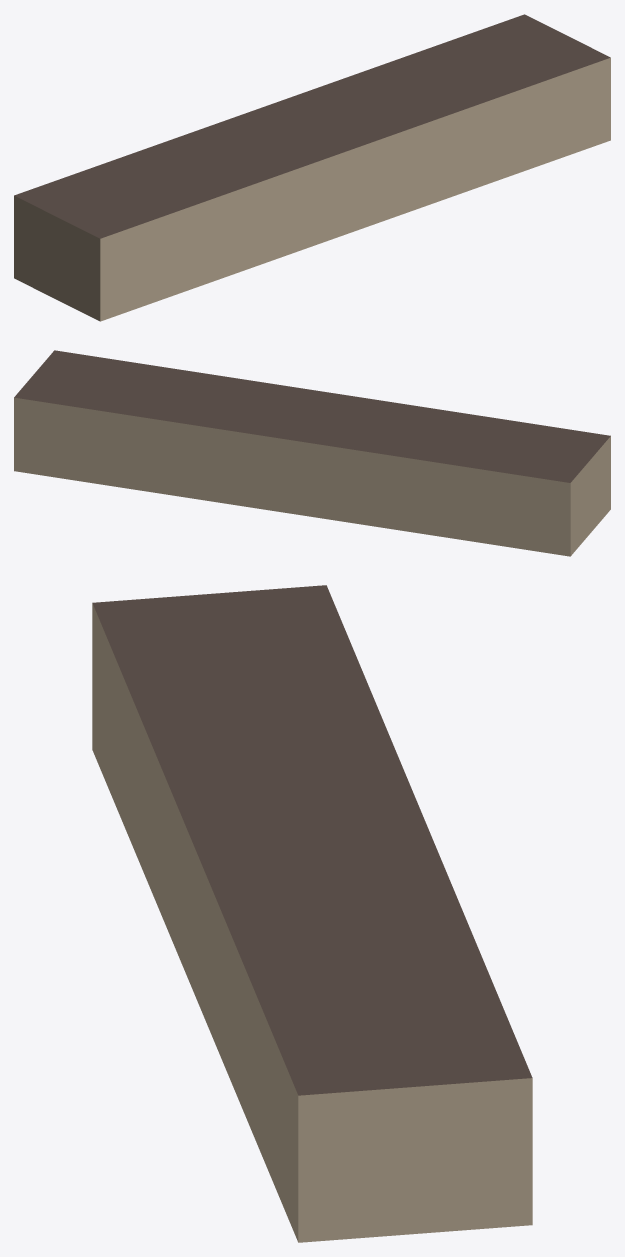
3 renders of one model, top to bottom at view 1: azimuth 30°, elevation 25°; view 2: azimuth 150°, elevation 25°; view 3: azimuth 270°, elevation 25°, orthographic. The views are drawn at different scales.
Parts seen in each view (by area): view 1: HP-w442146252; view 2: HP-w442146252; view 3: HP-w442146252.
Part boxes in pixels (box(x1,y1,x2,y2)): HP-w442146252: box(14, 14, 610, 321); HP-w442146252: box(14, 350, 610, 556); HP-w442146252: box(92, 585, 532, 1242).
Size of the model in its own units: 66.97 by 9 by 24.4.
